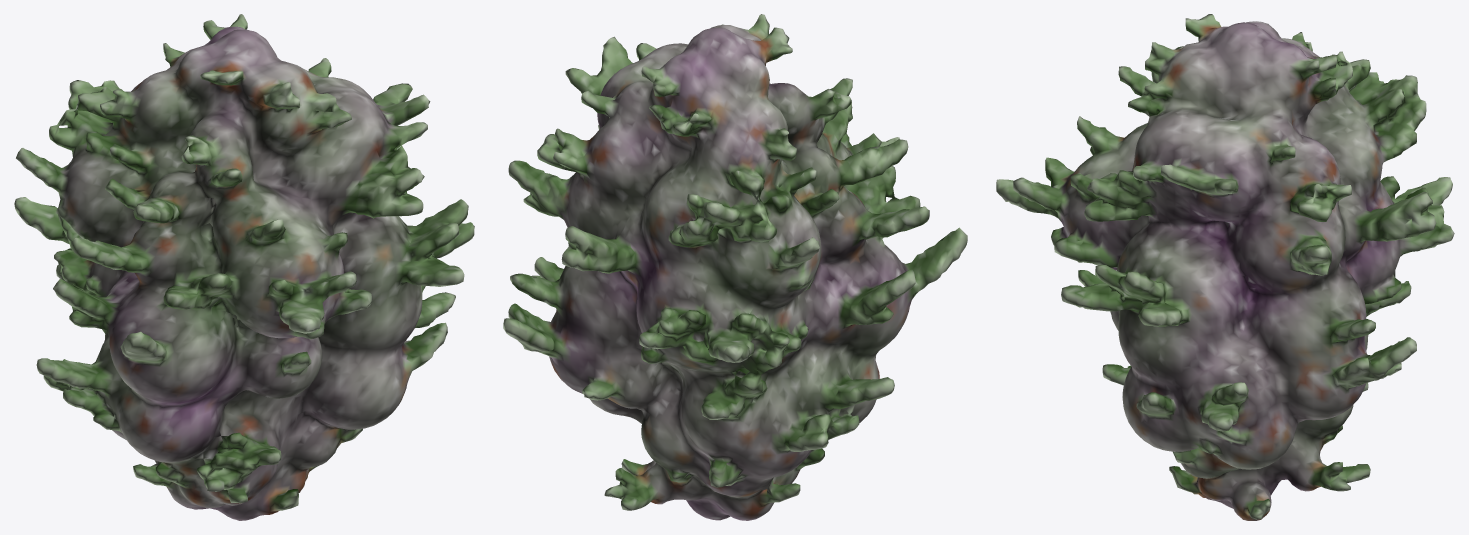
Rendered from nug_c2554ea5.obj.
3 views of the same model, side by side, from view 1: azimuth 30°, elevation 25°; view 2: azimuth 150°, elevation 25°; view 3: azimuth 270°, elevation 25° (orthographic).
Size of the model in its own units: 2.12 by 2.49 by 2.14.
